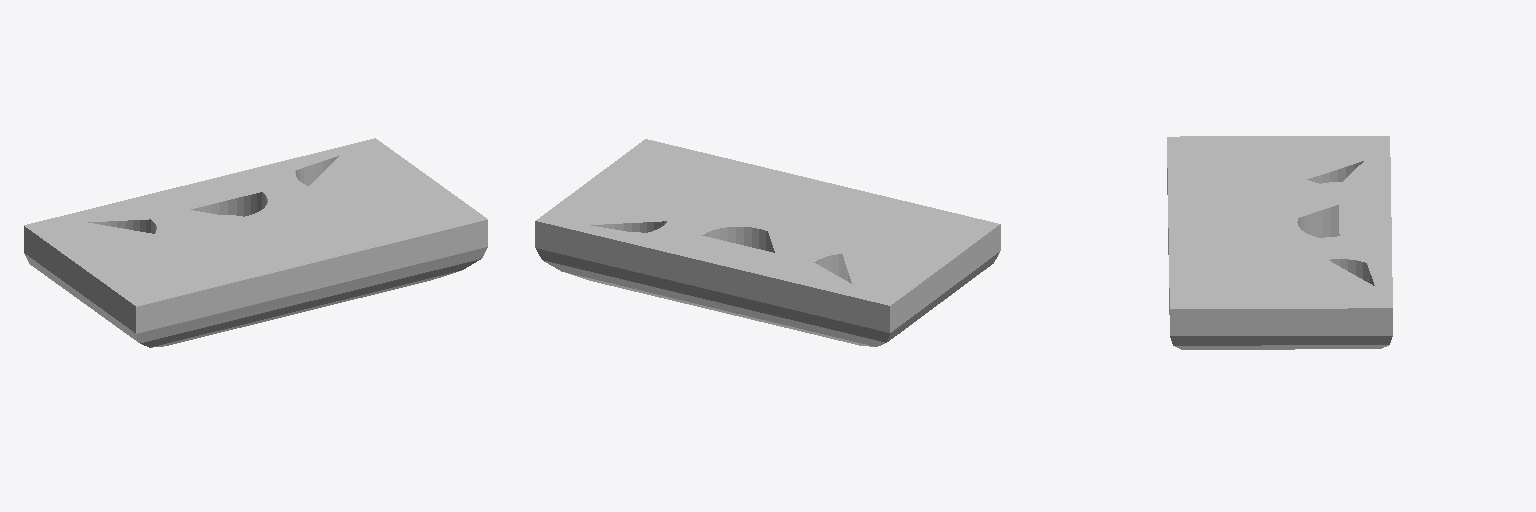
Rendered from Sauce Box.obj.
The picture shows the model from 3 angles: view 1: azimuth 30°, elevation 25°; view 2: azimuth 150°, elevation 25°; view 3: azimuth 270°, elevation 25°; orthographic projection.
Parts seen in each view (by area): view 1: saucebox; view 2: saucebox; view 3: saucebox.
Boxes of the visible parts, x1,y1,x2,y2 form: saucebox: [24, 138, 487, 347]; saucebox: [535, 139, 1000, 346]; saucebox: [1167, 136, 1392, 349].
Bounding box in the file's own units: 0.7655 × 0.1383 × 0.4223.